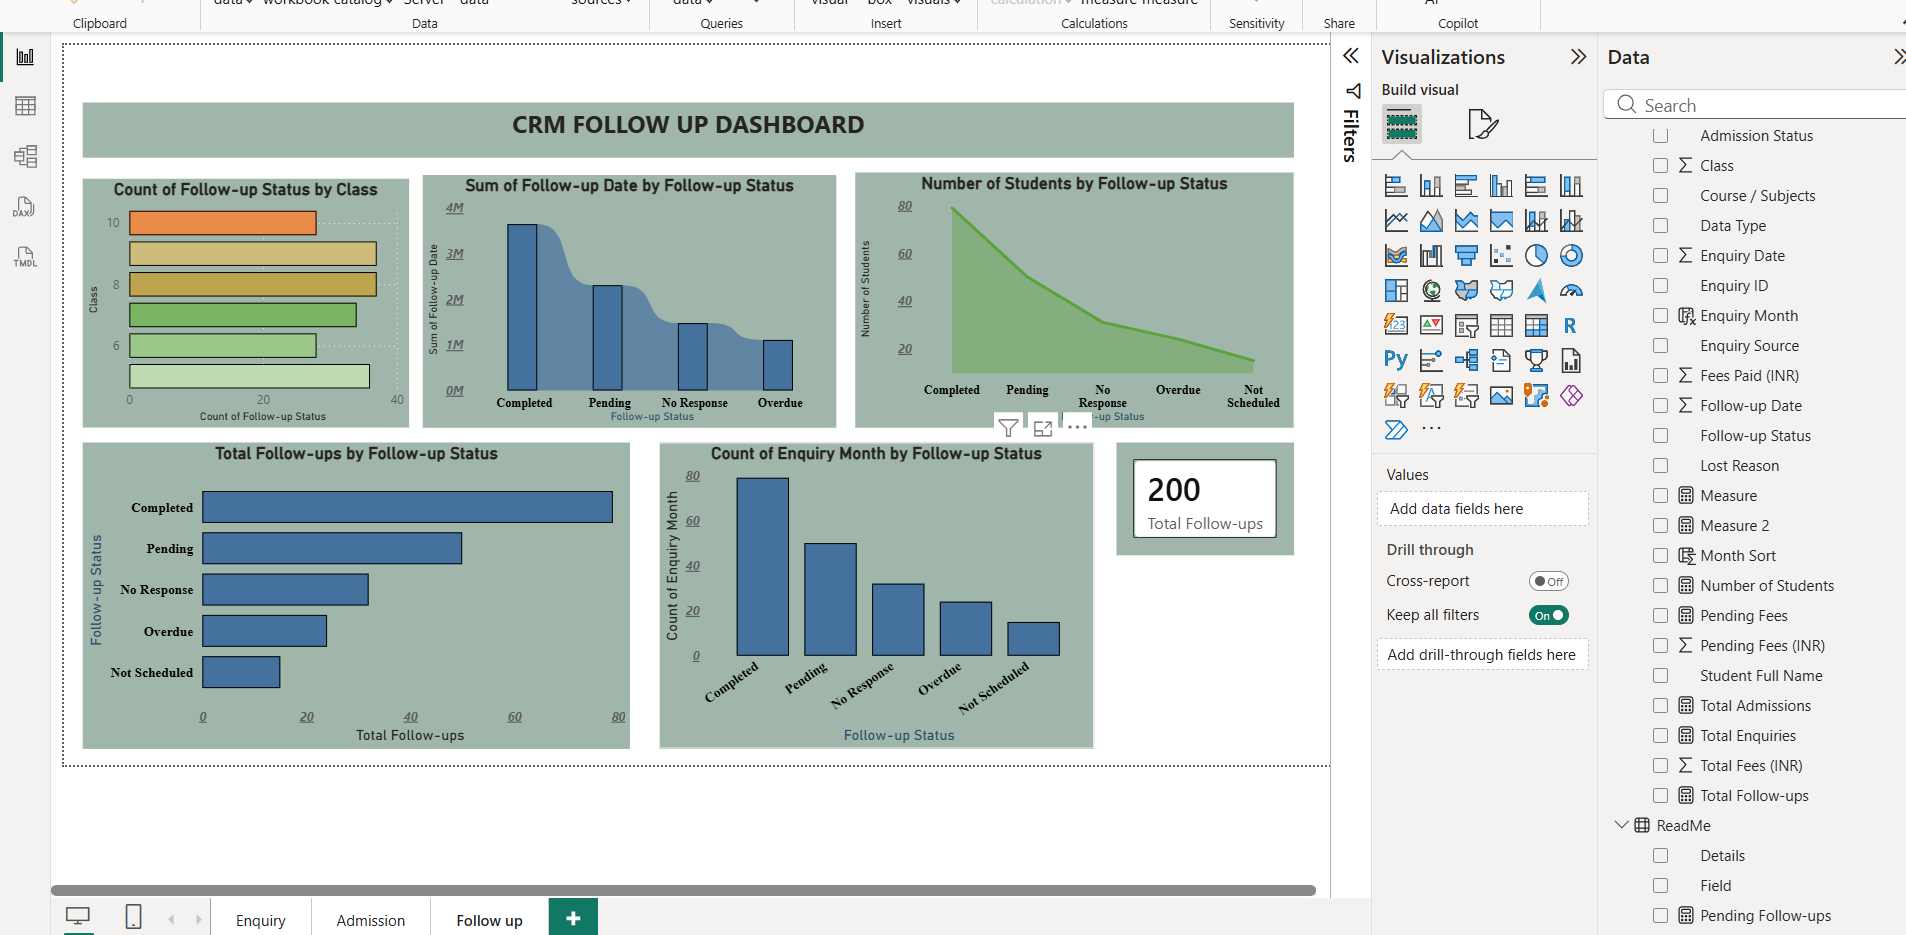

What the dashboard file says about the page in this screenshot:
{"tool":"powerbi","page":{"name":"Follow up","canvas":[1280,720],"ordinal":2},"visuals":[{"type":"textbox","box":[18.8,57.5,1211.2,55],"z":0},{"type":"cardVisual","fields":{"Data":["EnquiryData.Total Follow-ups"]},"box":[950,397.5,280,102.5],"z":1000},{"type":"ribbonChart","fields":{"Y":["Sum(EnquiryData.Follow-up Date)"],"Category":["EnquiryData.Follow-up Status"]},"box":[358.8,130,413.8,252.5],"z":2000},{"type":"areaChart","fields":{"Y":["EnquiryData.Number of Students"],"Category":["EnquiryData.Follow-up Status"]},"box":[791.2,127.5,438.8,255],"z":3000},{"type":"barChart","fields":{"Category":["EnquiryData.Class"],"Y":["CountNonNull(EnquiryData.Follow-up Status)"]},"box":[18.8,133.8,326.2,248.8],"z":4000},{"type":"columnChart","fields":{"Category":["EnquiryData.Follow-up Status"],"Y":["CountNonNull(EnquiryData.Enquiry Month)"]},"box":[492.5,397.5,435,306.2],"z":5000},{"type":"clusteredBarChart","fields":{"Category":["EnquiryData.Follow-up Status"],"Y":["EnquiryData.Total Follow-ups"]},"box":[18.8,397.5,450,306.2],"z":6000},{"type":"lineChart","fields":{"Y":["EnquiryData.Total Follow-ups"],"Category":["EnquiryData.Admission Status"]},"box":[946.2,511.2,286.2,192.5],"z":7000}]}

Visuals, with their boxes on the page's 1280x720 design canvas (x1, y1, x2, y2). These are canvas units, not pixel positions in the 1906x935 screenshot, which may show the page scaled, cropped or inside an application window:
textbox: bbox(19, 58, 1230, 112)
cardVisual - EnquiryData.Total Follow-ups: bbox(950, 398, 1230, 500)
ribbonChart - Sum(EnquiryData.Follow-up Date) x EnquiryData.Follow-up Status: bbox(359, 130, 773, 382)
areaChart - EnquiryData.Number of Students x EnquiryData.Follow-up Status: bbox(791, 128, 1230, 382)
barChart - EnquiryData.Class x CountNonNull(EnquiryData.Follow-up Status): bbox(19, 134, 345, 383)
columnChart - EnquiryData.Follow-up Status x CountNonNull(EnquiryData.Enquiry Month): bbox(492, 398, 928, 704)
clusteredBarChart - EnquiryData.Follow-up Status x EnquiryData.Total Follow-ups: bbox(19, 398, 469, 704)
lineChart - EnquiryData.Total Follow-ups x EnquiryData.Admission Status: bbox(946, 511, 1232, 704)
